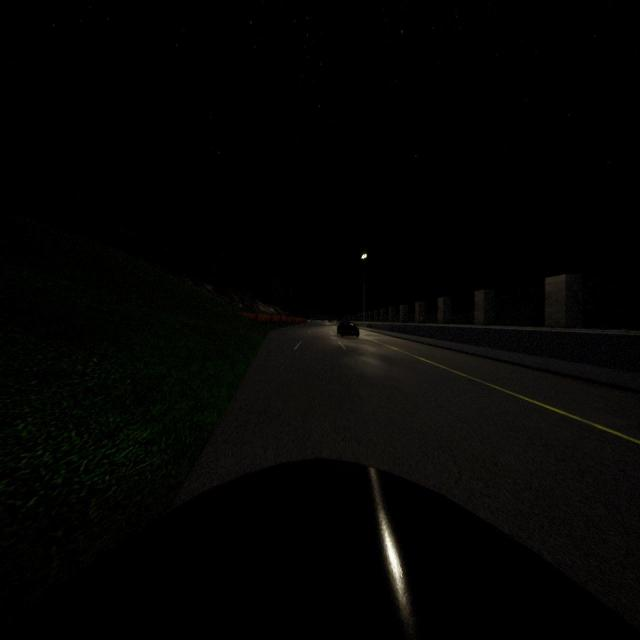Traffic_Signs: (419, 316, 424, 321)
Vehicle: (0, 461, 640, 640), (336, 321, 359, 338)
